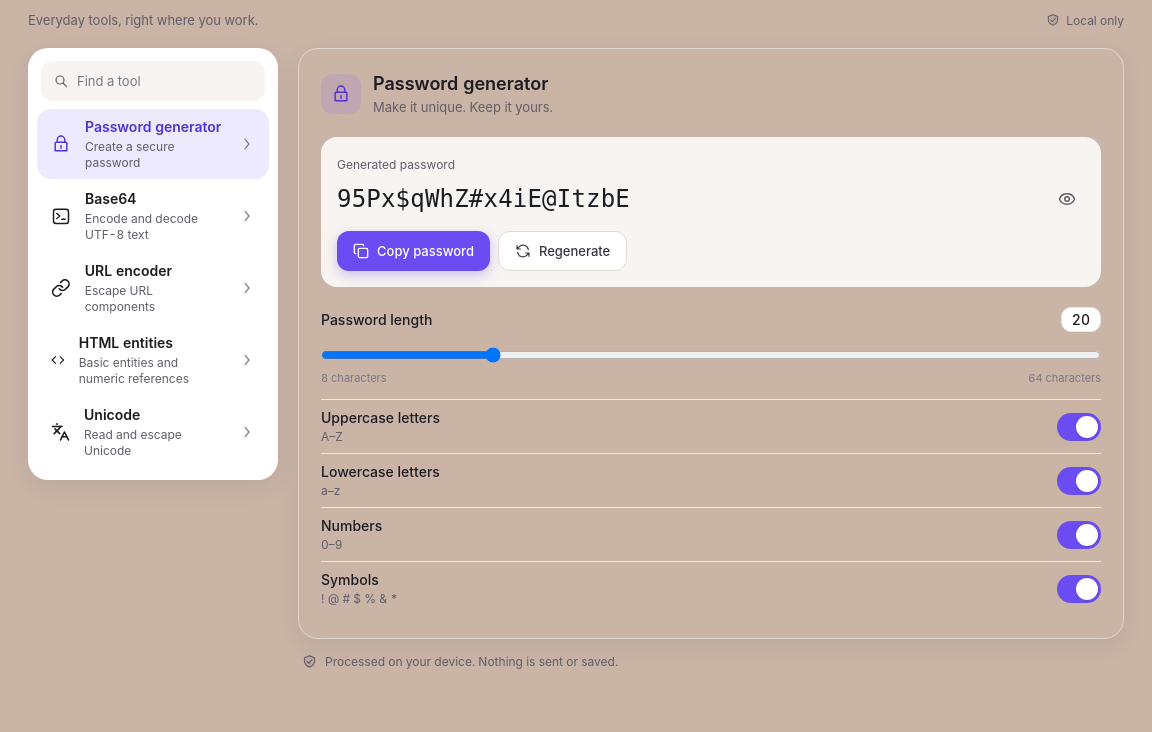
Test case: regenerates for changed settings and blocks empty selections
The image size is (1152, 732).
Click the switch named "Uppercase letters": (1079, 426) [1057,404,1101,448]
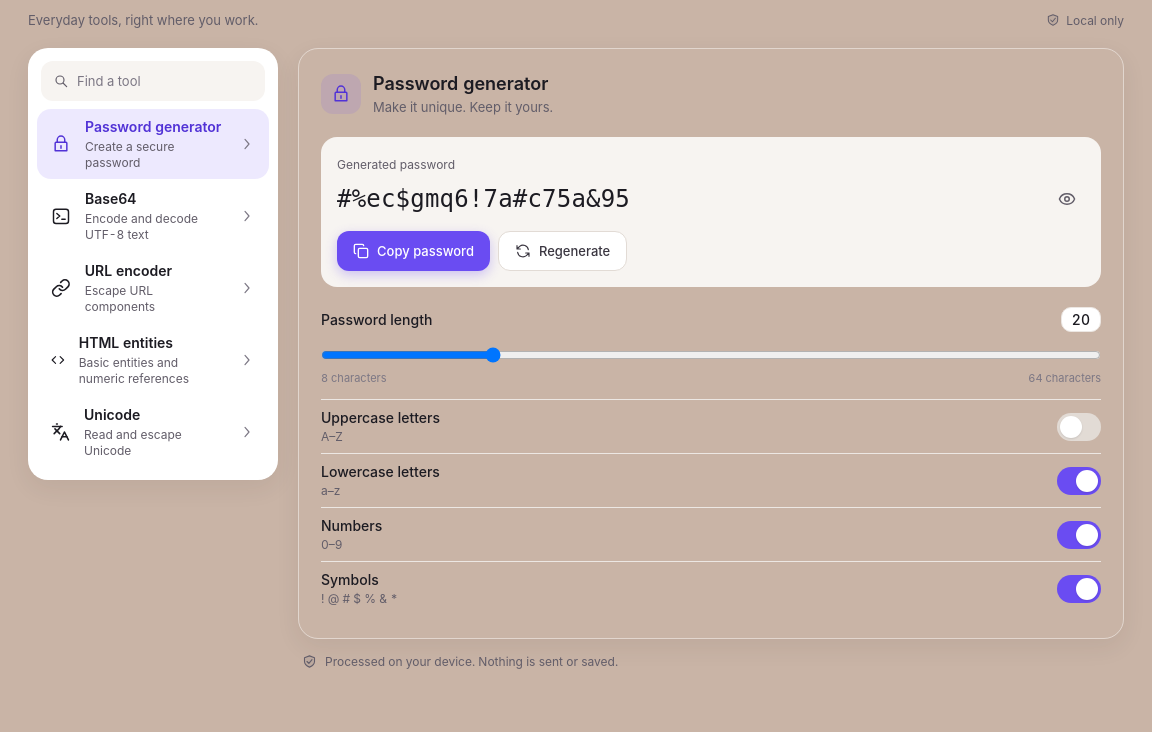
Click the switch named "Lowercase letters": (1079, 480) [1057,458,1101,502]
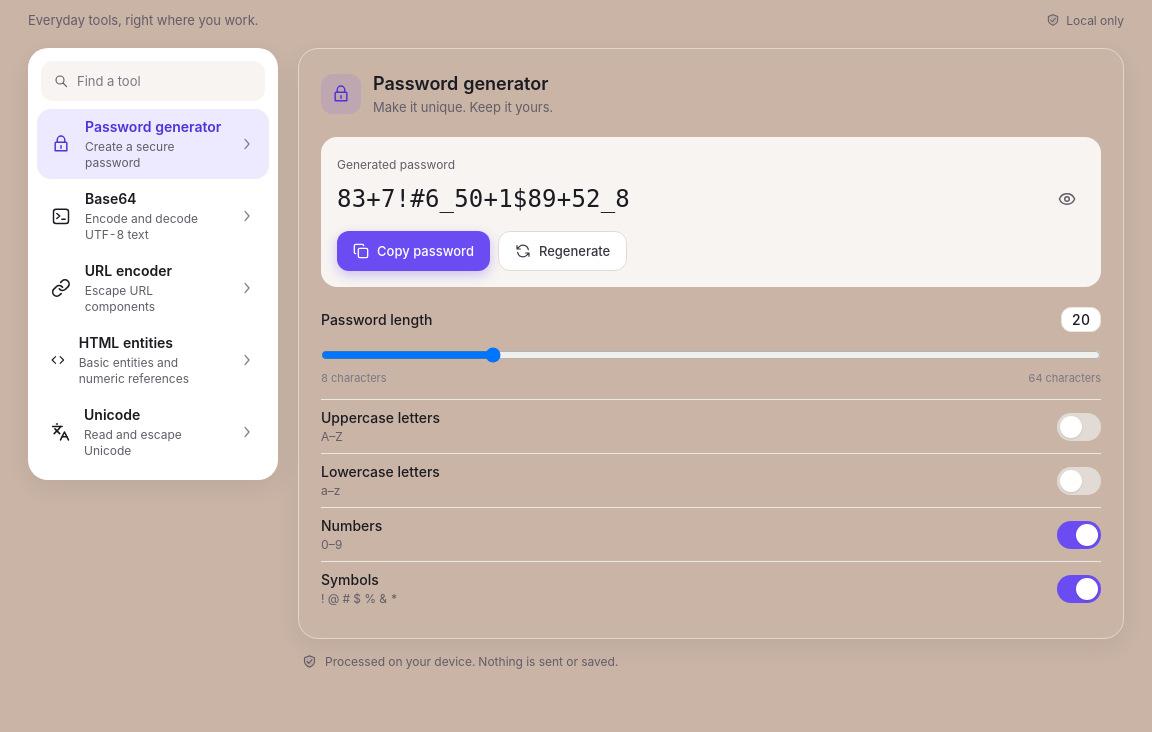
Click the switch named "Symbols": (1079, 589) [1057,567,1101,611]
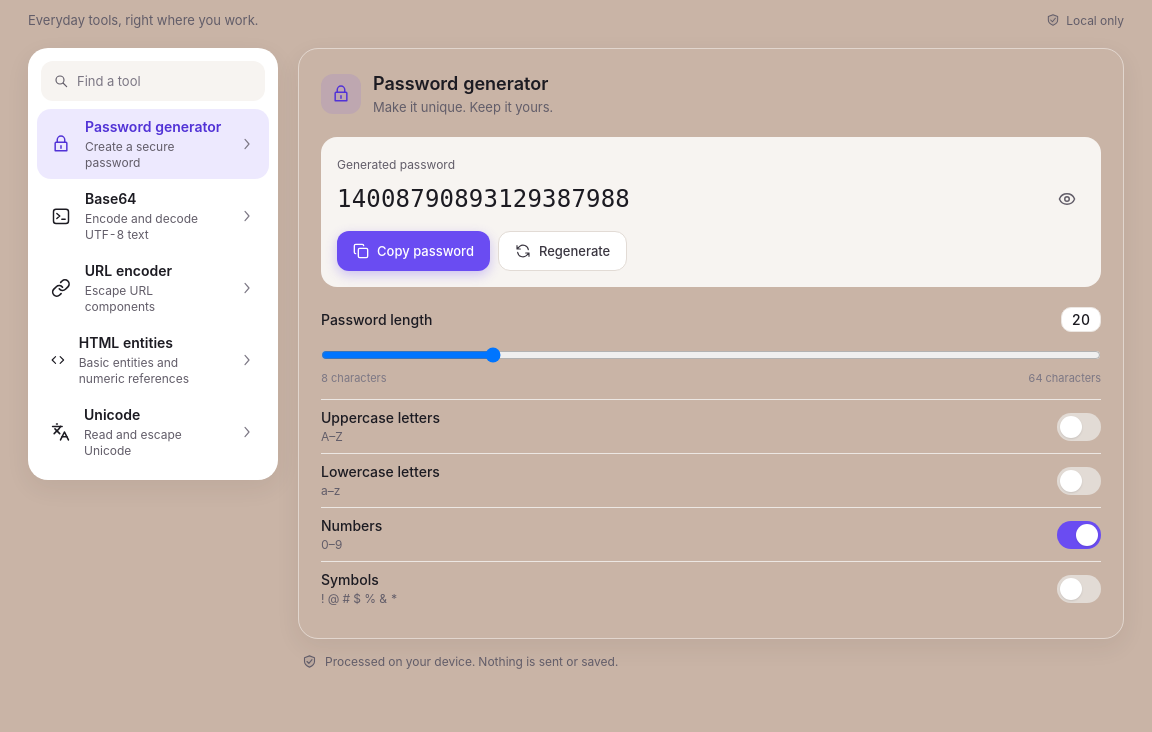
Click the switch named "Numbers": (1079, 534) [1057,512,1101,556]
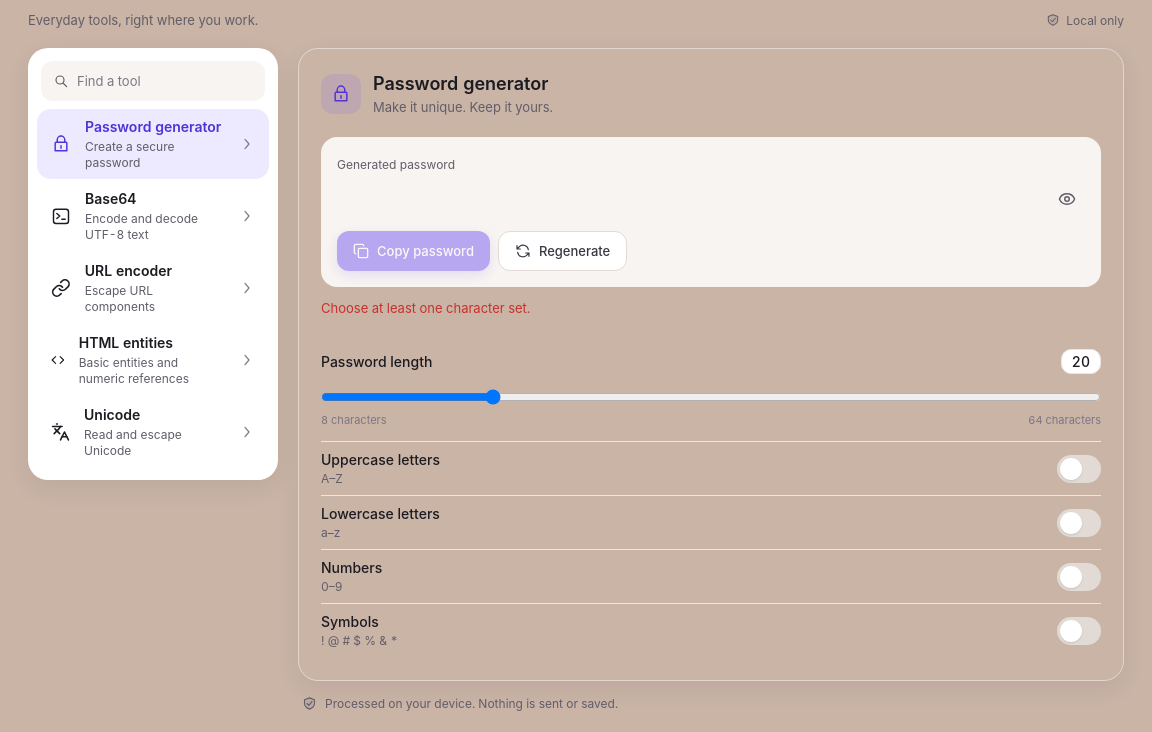
Expected: the field with id "generated-password" is empty, [337,182,1041,216]
Expected: the message "Choose at least one character set." is shown, [321,300,530,316]
Expected: the button "Copy password" is disabled, [337,231,490,271]
Click the switch named "Numbers": (1079, 576) [1057,554,1101,598]
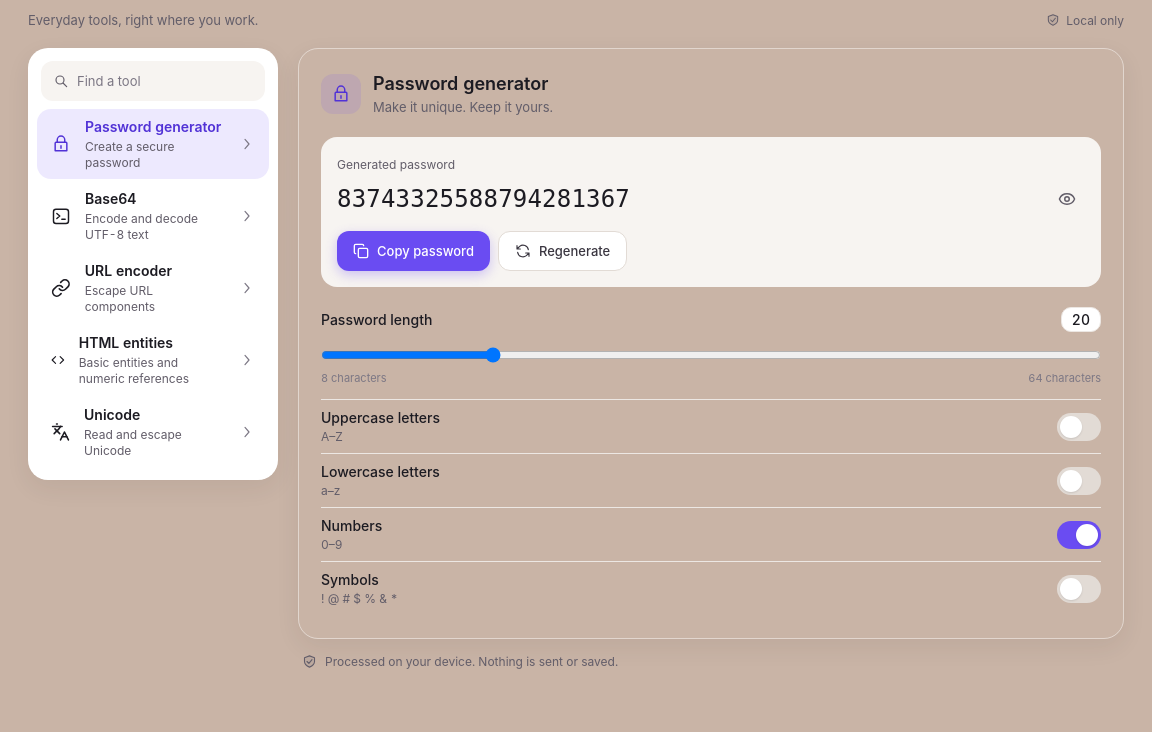
Expected: the button "Copy password" is enabled, [337,231,490,271]
